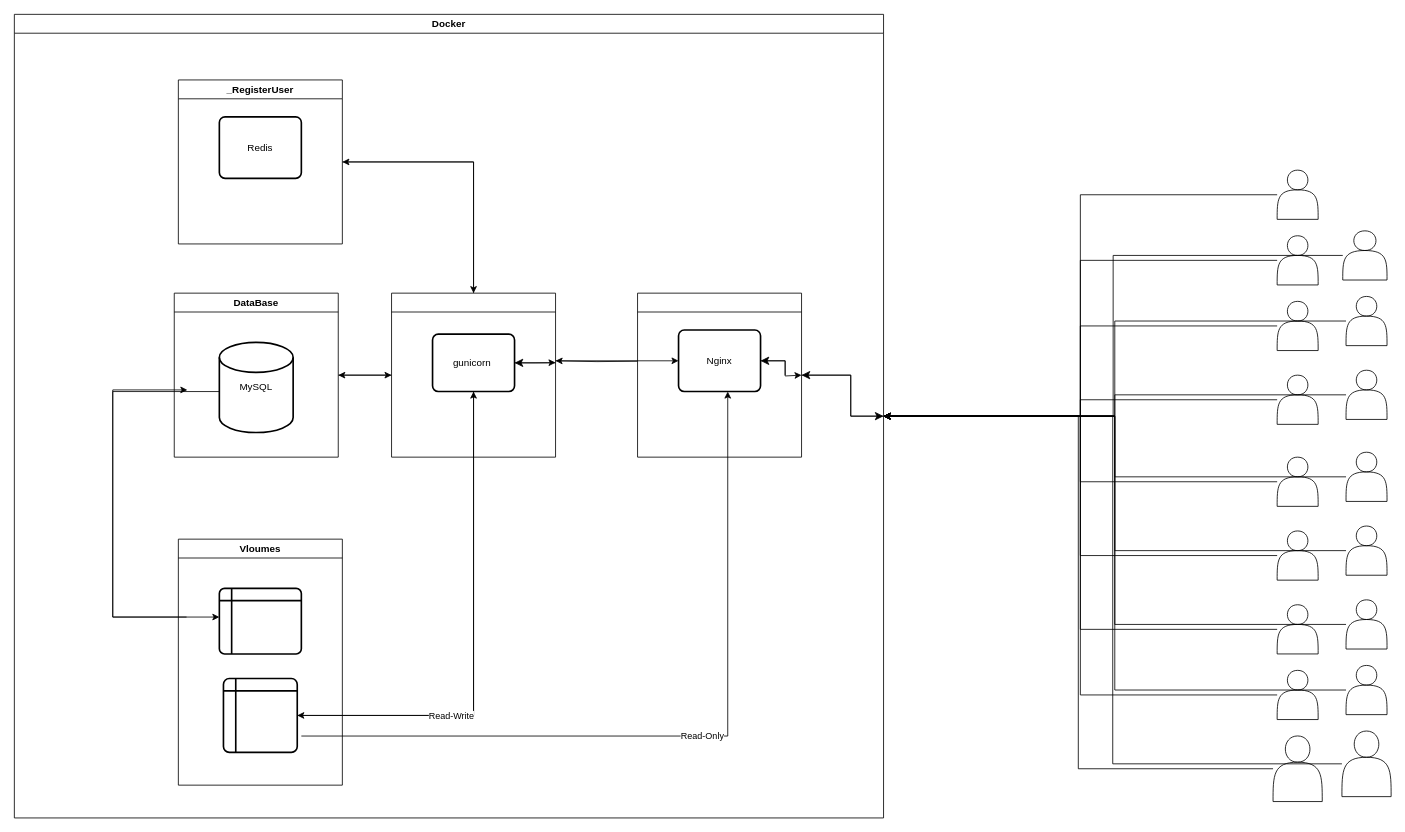
This 1405x832 diagram has some shape labels left out. Here are the shapes that lost their labels. From the top down, the box of each, then its label:
(391, 292, 556, 457): Application
(637, 292, 802, 457): WebServer
(218, 587, 302, 654): db-data
(222, 677, 298, 753): files-data
